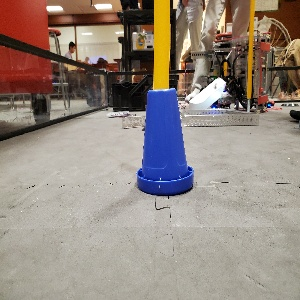Blue_1: (136, 88, 193, 195)
